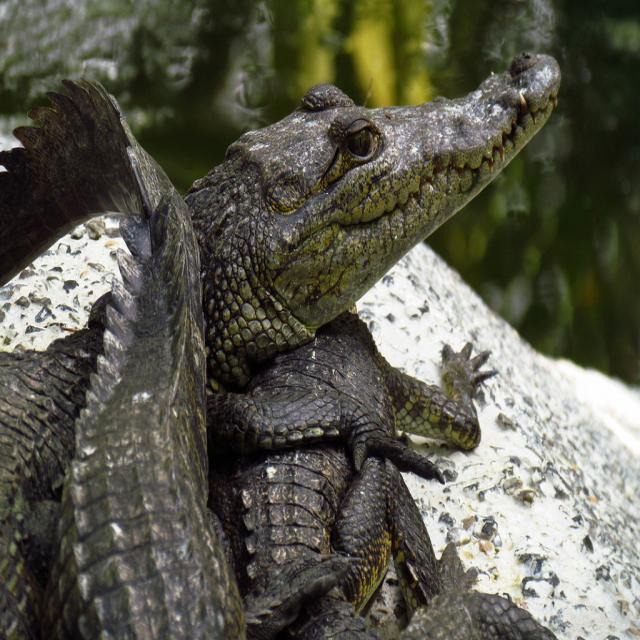crocodile: (0, 46, 566, 637)
